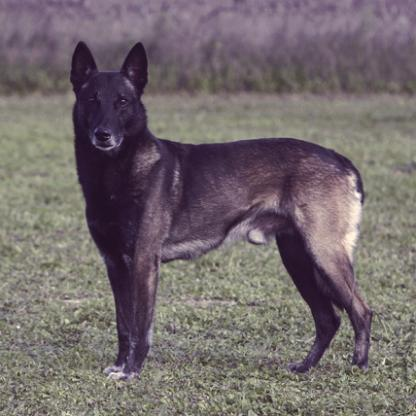Belgian Shepherd: (61, 33, 380, 375)
